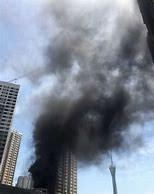smoke: (28, 31, 148, 187)
